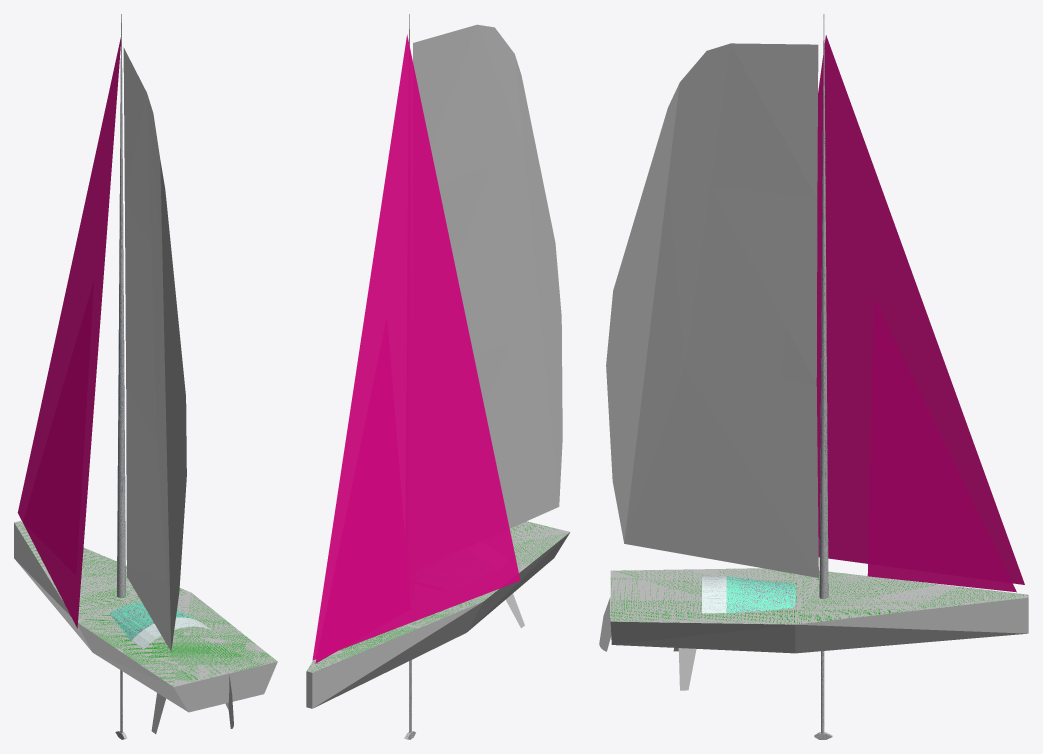
The model's file is genois_tribord_monocoque.dae.
3 renders of one model, left to right at view 1: azimuth 30°, elevation 25°; view 2: azimuth 150°, elevation 25°; view 3: azimuth 270°, elevation 25°, orthographic.
Parts seen in each view (by area): view 1: SketchUp (×8); view 2: SketchUp (×5); view 3: SketchUp (×9).
Part boxes in pixels (x1,y1,x2,y2): SketchUp (×8): [14, 14, 277, 712]; SketchUp (×5): [306, 24, 569, 708]; SketchUp (×9): [606, 14, 1028, 653].
Bounding box in the file's own units: 26158 × 72816 × 135626.
